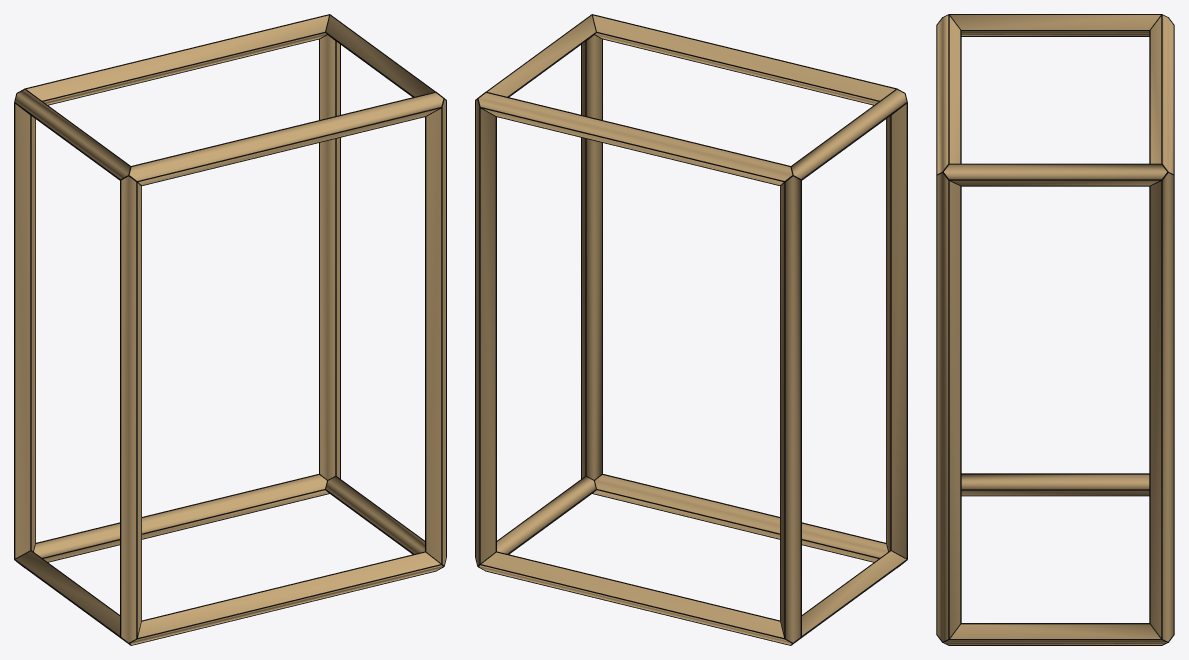
The model's file is 007-buffet.glb.
3 views of the same model, side by side, from view 1: azimuth 30°, elevation 25°; view 2: azimuth 150°, elevation 25°; view 3: azimuth 270°, elevation 25° (orthographic).
Visible parts, largest first — view 1: arete-Z0, arete-Z2, arete-Z1, arete-Z3, arete-X2, arete-X0, arete-X3, arete-X1, arete-wire-Z0, arete-wire-Z1, arete-wire-Z2, arete-Y2 (+8 smaller); view 2: arete-Z2, arete-Z0, arete-Z3, arete-Z1, arete-X3, arete-X1, arete-X2, arete-X0, arete-wire-Z2, arete-wire-Z0, arete-wire-Z3, arete-Y2 (+8 smaller); view 3: arete-Z1, arete-Z3, arete-Y3, arete-Y0, arete-Y1, arete-Y2, arete-X2, arete-X3, arete-wire-Z1, arete-wire-Z3, arete-wire-Y3, arete-wire-Y0 (+4 smaller).
Part boxes in pixels (left/top/right/bottom): arete-Z0: left=121, top=176, right=141, bottom=642; arete-Z2: left=15, top=104, right=35, bottom=558; arete-Z1: left=426, top=99, right=445, bottom=565; arete-Z3: left=320, top=35, right=339, bottom=479; arete-X2: left=129, top=93, right=443, bottom=185; arete-X0: left=130, top=552, right=442, bottom=644; arete-X3: left=26, top=15, right=328, bottom=104; arete-X1: left=34, top=475, right=328, bottom=561; arete-wire-Z0: left=120, top=175, right=141, bottom=638; arete-wire-Z1: left=425, top=98, right=446, bottom=564; arete-wire-Z2: left=14, top=103, right=35, bottom=559; arete-Y2: left=15, top=89, right=130, bottom=178; arete-Z2: left=780, top=176, right=800, bottom=642; arete-Z0: left=886, top=104, right=906, bottom=558; arete-Z3: left=476, top=99, right=495, bottom=565; arete-Z1: left=582, top=35, right=601, bottom=479; arete-X3: left=478, top=93, right=792, bottom=185; arete-X1: left=479, top=552, right=791, bottom=644; arete-X2: left=593, top=15, right=895, bottom=104; arete-X0: left=593, top=475, right=887, bottom=561; arete-wire-Z2: left=780, top=175, right=801, bottom=638; arete-wire-Z0: left=886, top=93, right=907, bottom=559; arete-wire-Z3: left=475, top=100, right=496, bottom=564; arete-Y2: left=791, top=89, right=906, bottom=178; arete-Z1: left=937, top=173, right=960, bottom=641; arete-Z3: left=1150, top=173, right=1173, bottom=641; arete-Y3: left=944, top=164, right=1166, bottom=185; arete-Y0: left=961, top=474, right=1149, bottom=495; arete-Y1: left=944, top=624, right=1166, bottom=644; arete-Y2: left=950, top=15, right=1160, bottom=35; arete-X2: left=937, top=15, right=960, bottom=173; arete-X3: left=1150, top=15, right=1173, bottom=173; arete-wire-Z1: left=936, top=172, right=961, bottom=639; arete-wire-Z3: left=1149, top=175, right=1174, bottom=639; arete-wire-Y3: left=949, top=163, right=1168, bottom=186; arete-wire-Y0: left=961, top=473, right=1149, bottom=496.
Size of the model in its own units: 0.6738 by 0.9458 by 0.4238.
